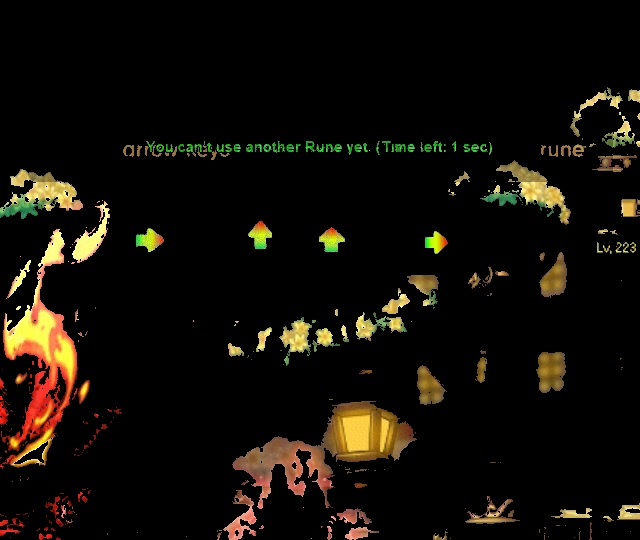right: (127, 222, 171, 258), (416, 223, 455, 260)
up: (240, 213, 283, 259), (312, 221, 352, 263)
